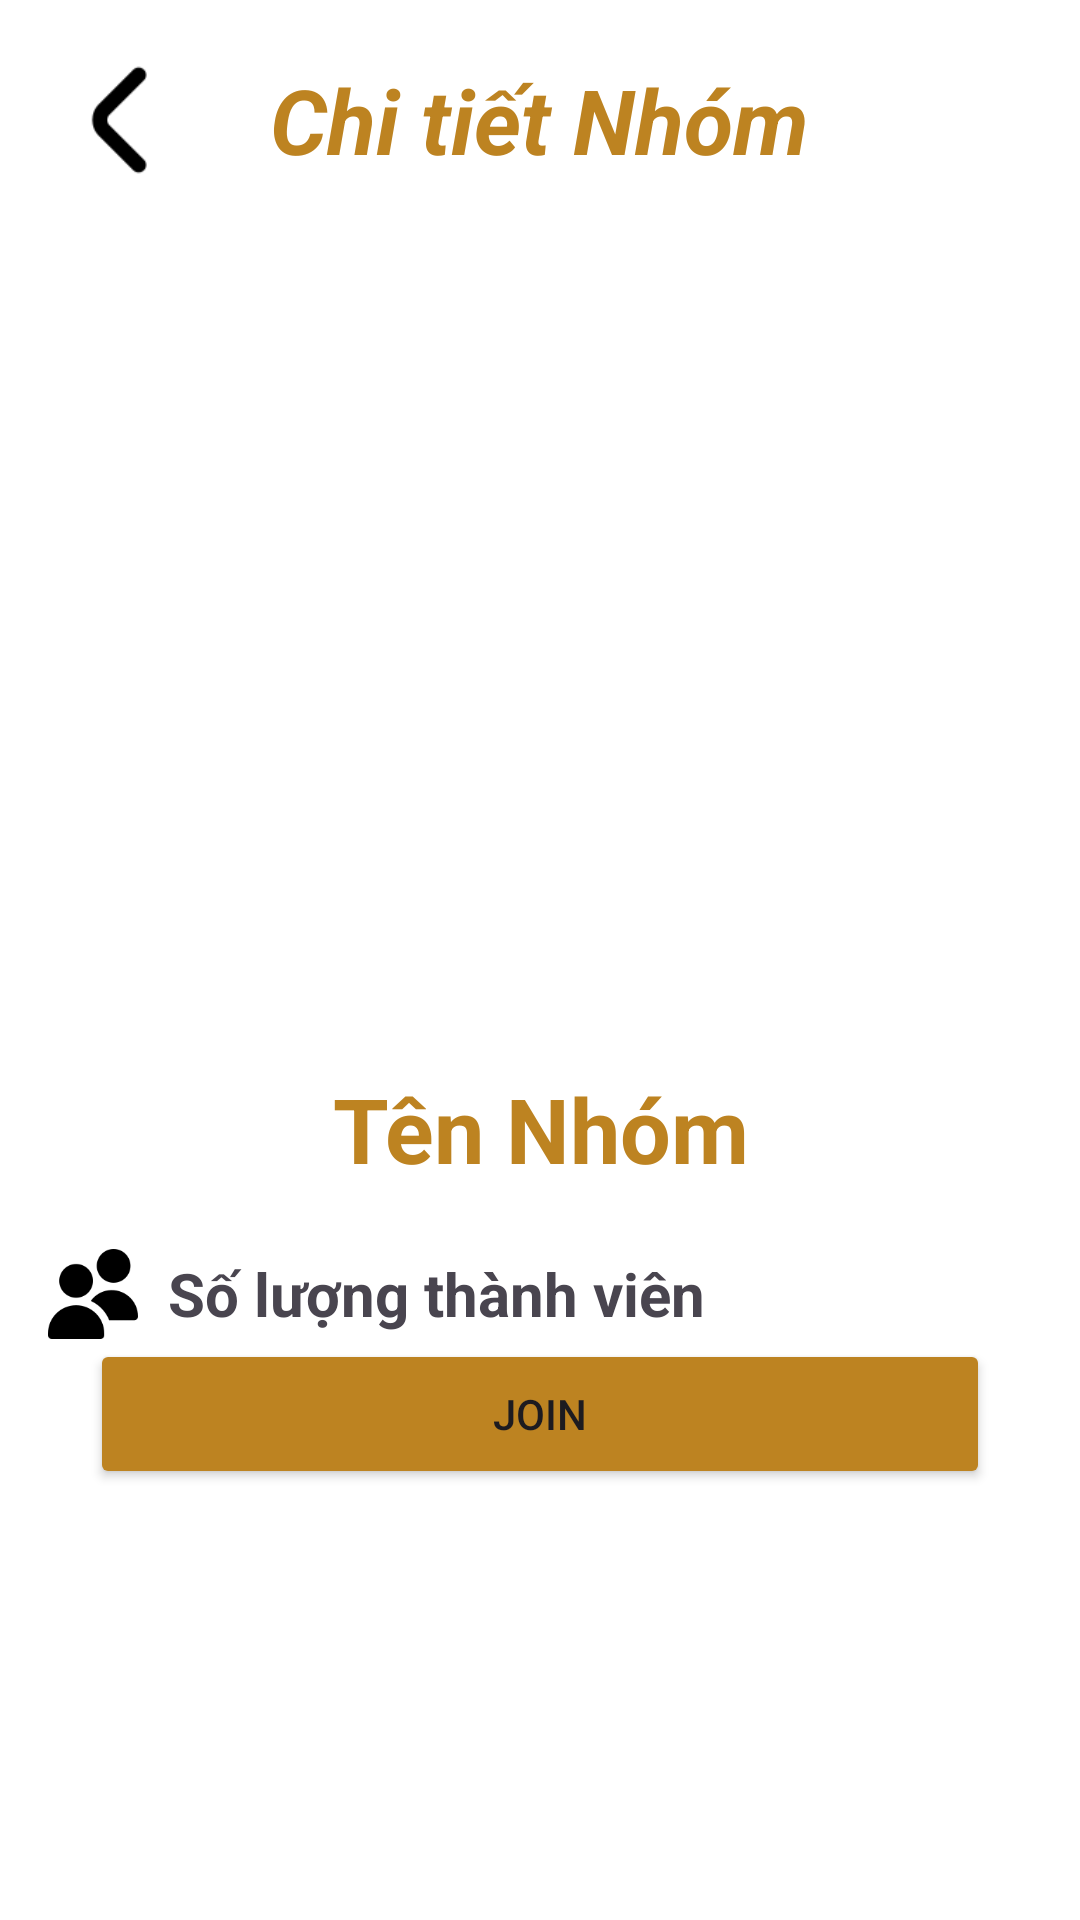

Icons on this 1080px x 1920px Android screen, each with the point to tap as [x,y]:
angle left: [119,120]
authors: [93,1294]
